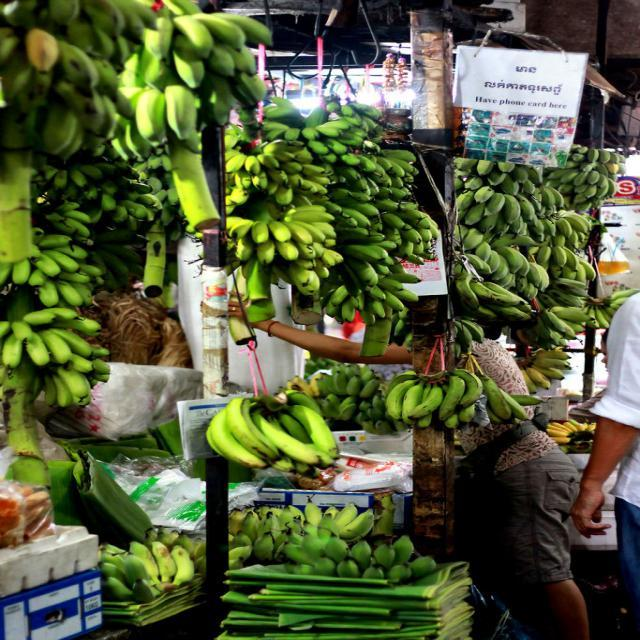Banana: (0, 0, 639, 599), (196, 390, 359, 480)
